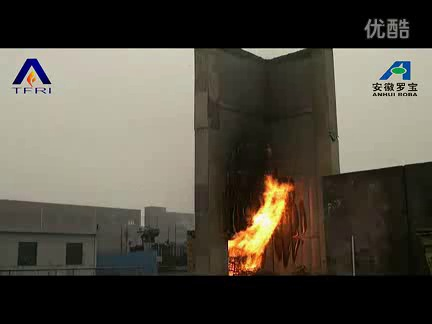fire: (227, 171, 295, 279)
